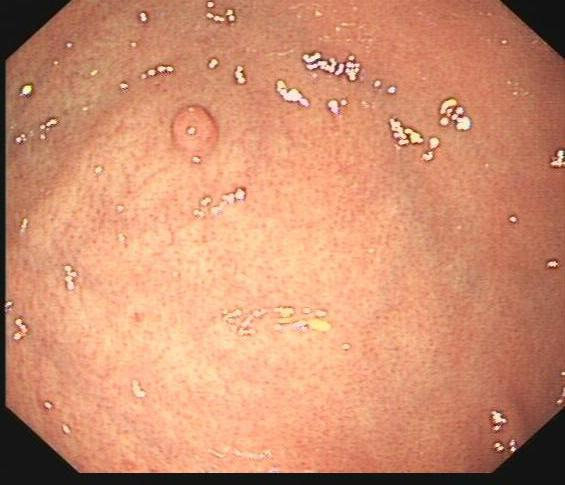Polyp: (170, 103, 220, 154)
